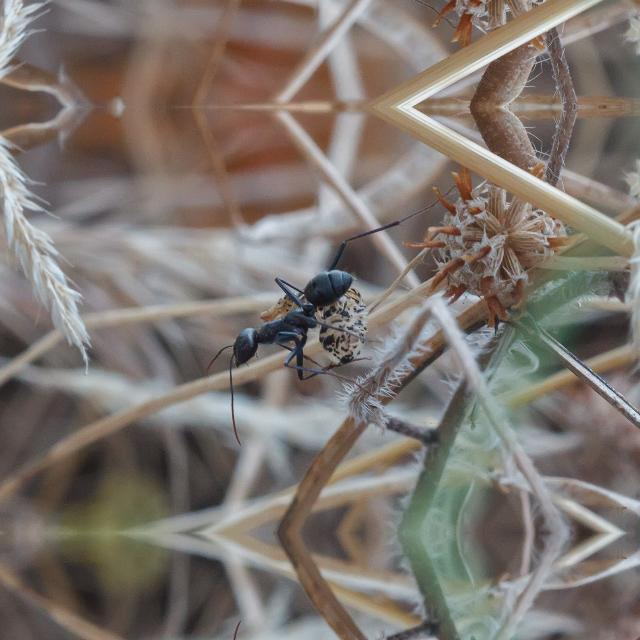Cataglyphis: (198, 242, 382, 378)
